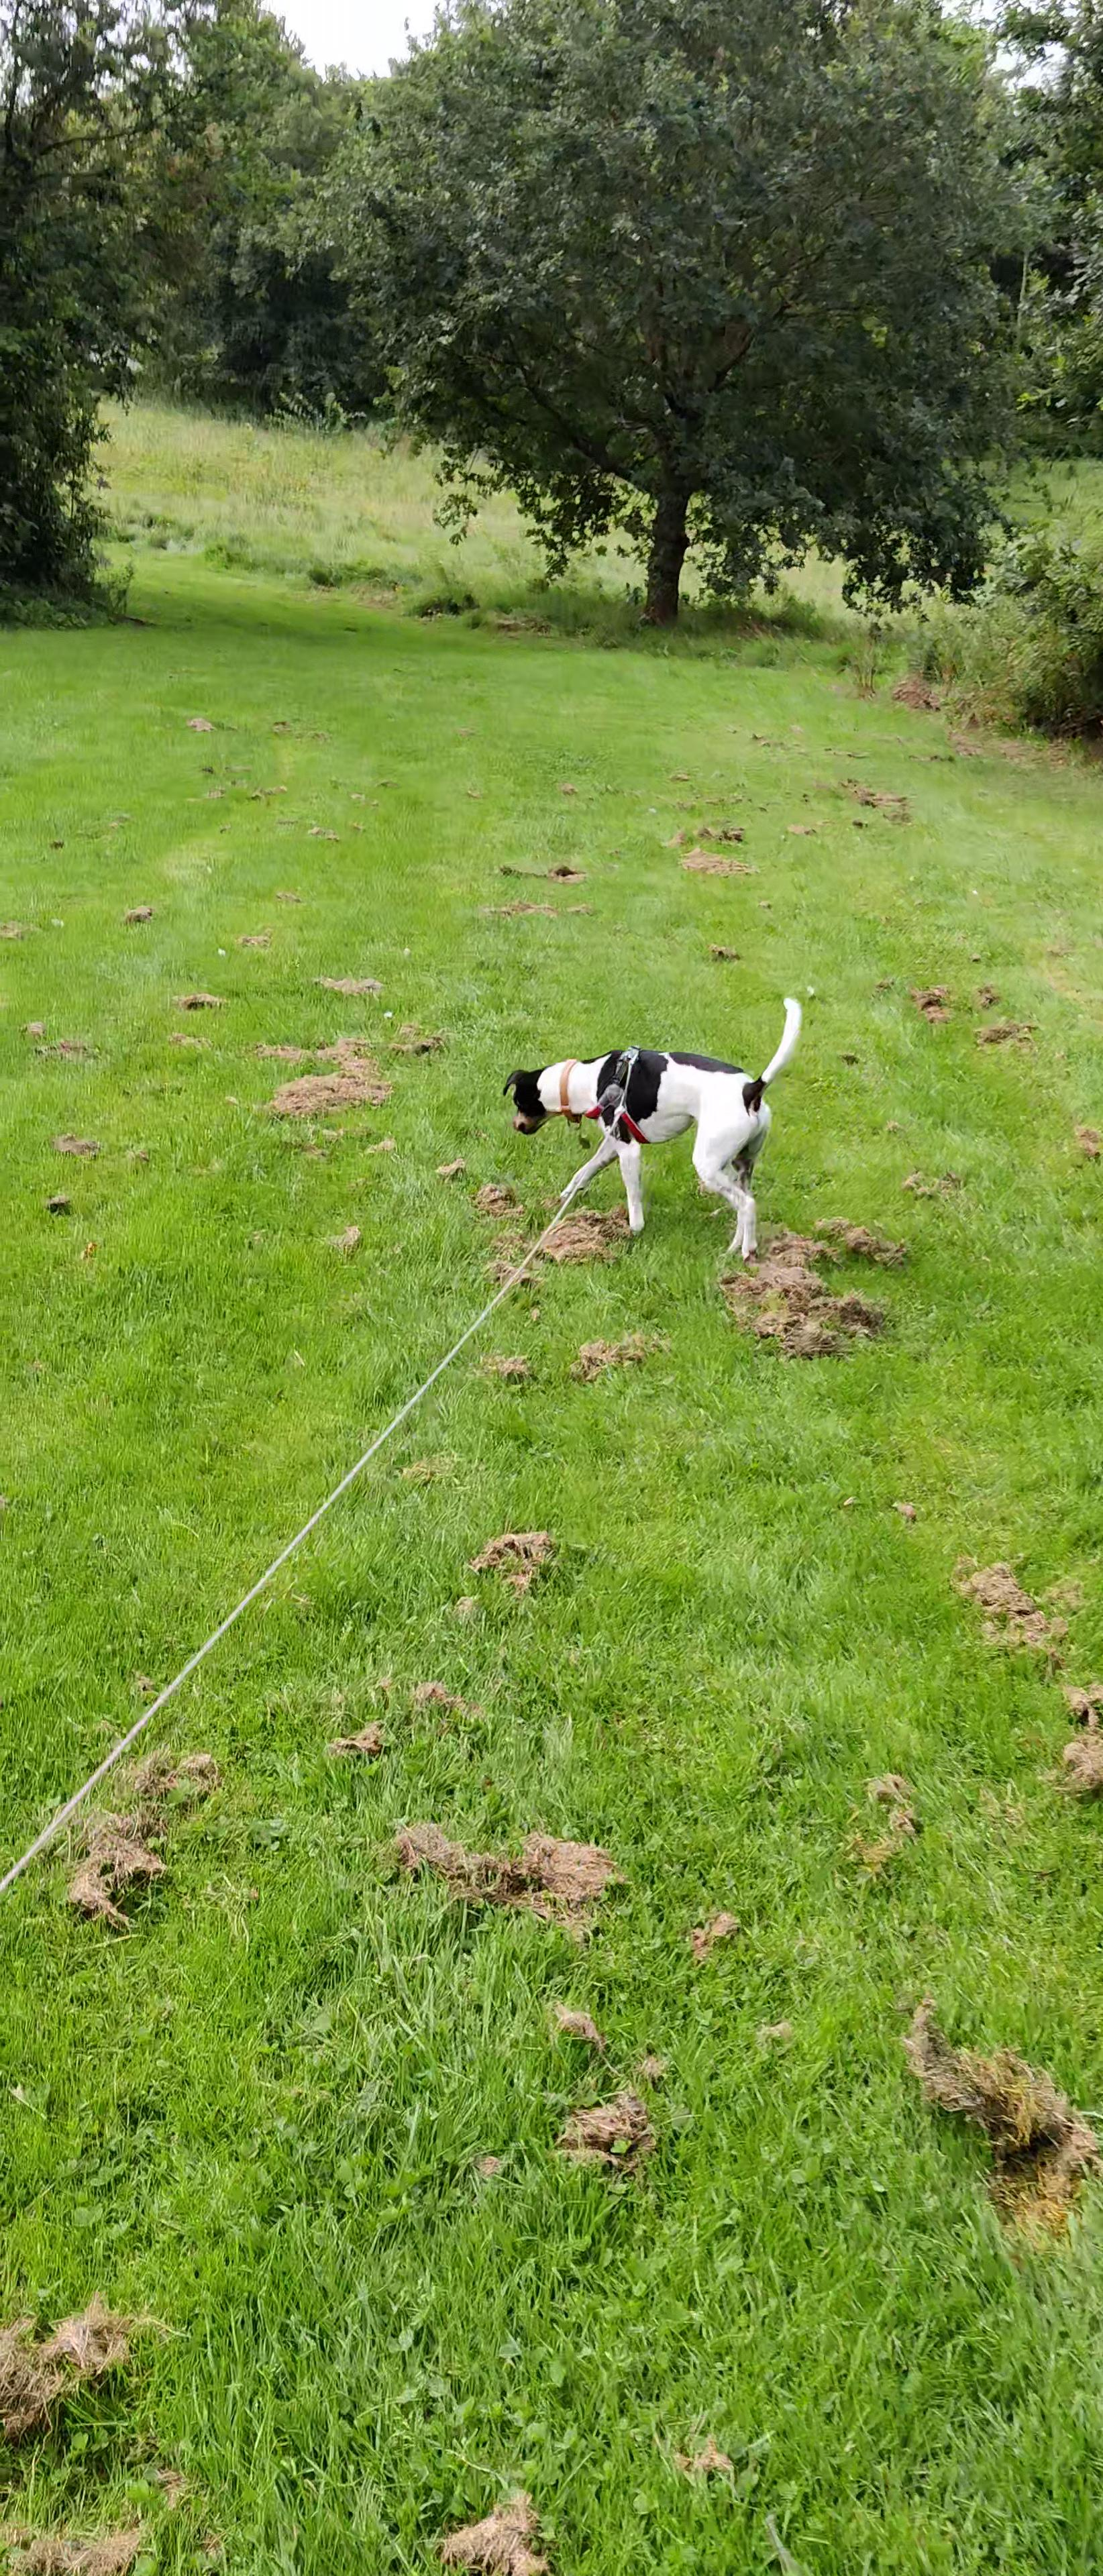Dog: (490, 979, 809, 1262)
